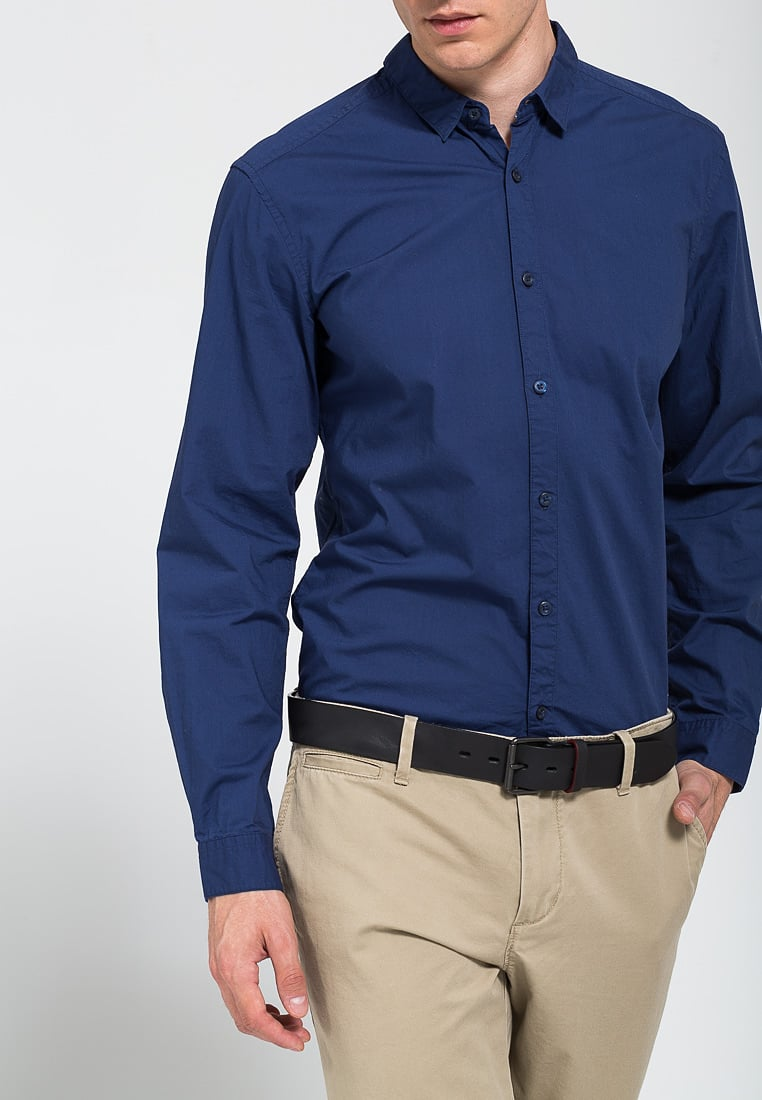F_belt: (278, 674, 697, 803)
F_shirt: (161, 32, 752, 830)
